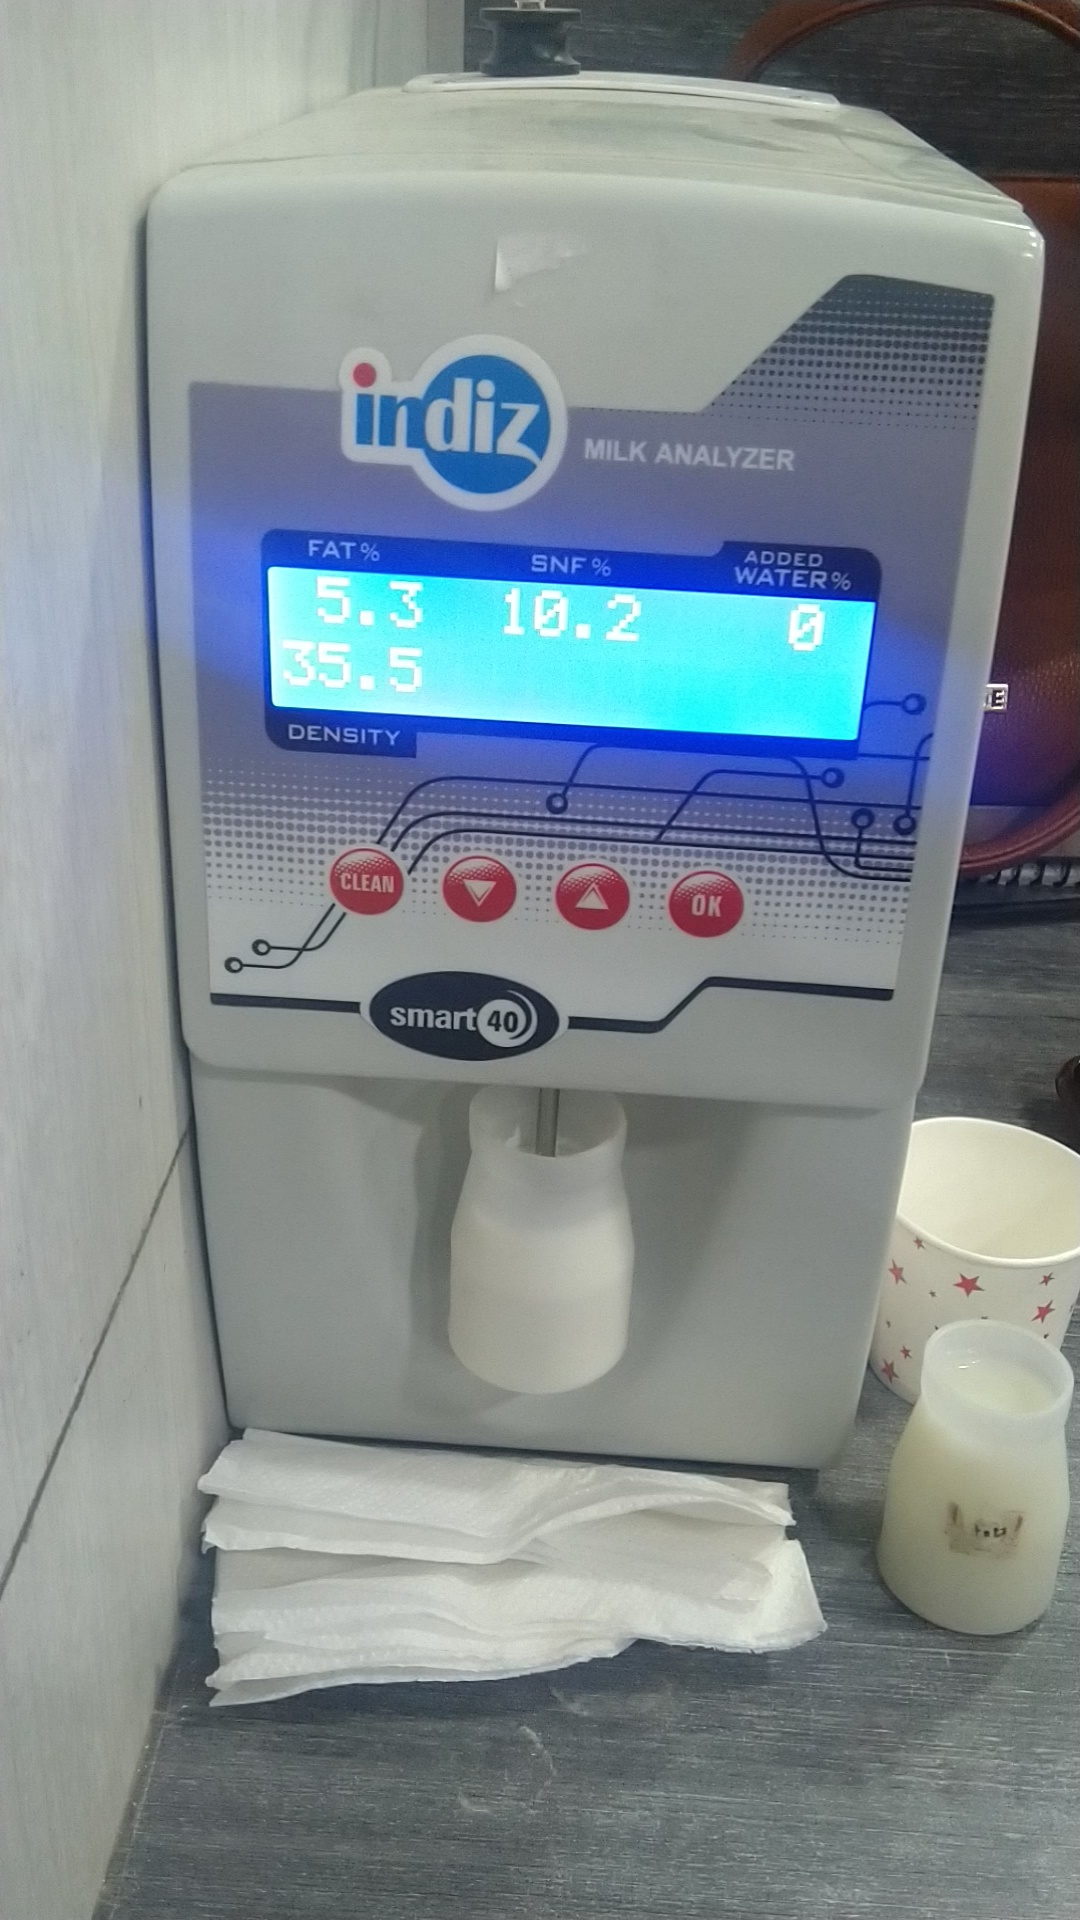lcd: (256, 554, 874, 762)
